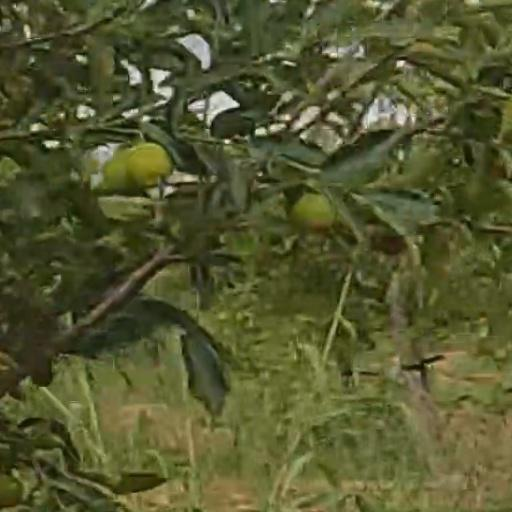acerola_verde: (131, 143, 173, 184), (293, 193, 331, 226), (104, 149, 128, 189)
